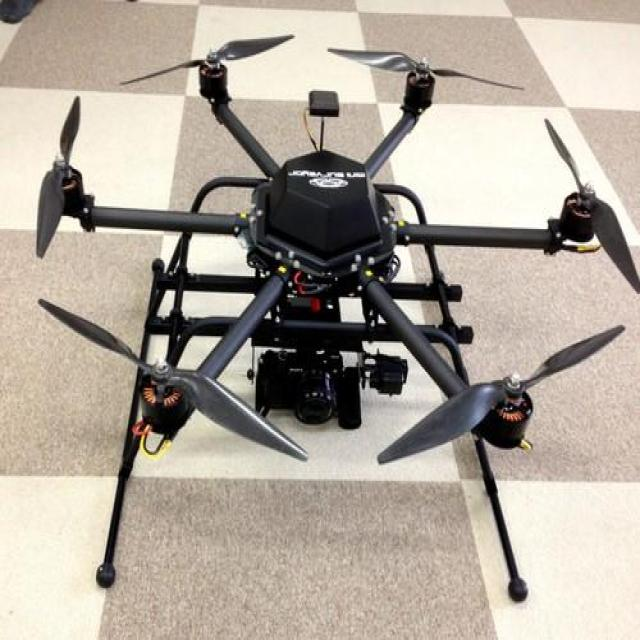drone: (27, 0, 640, 584)
